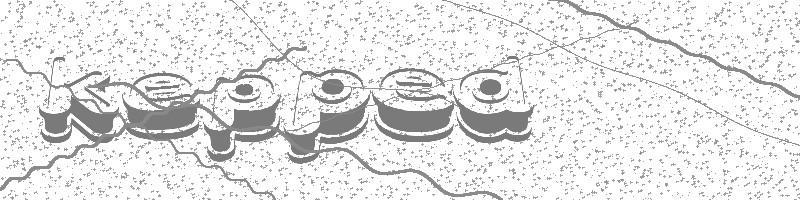d: (454, 56, 532, 144)
e: (372, 68, 454, 141), (123, 73, 200, 141)
k: (40, 58, 119, 144)
p: (285, 70, 369, 163), (204, 75, 278, 161)
